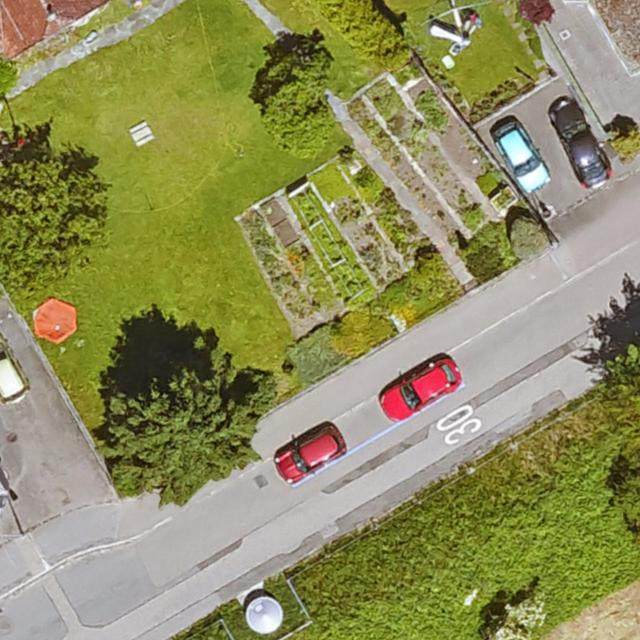tree: (98, 363, 266, 502), (0, 151, 103, 299), (255, 41, 334, 149), (600, 345, 640, 400)
